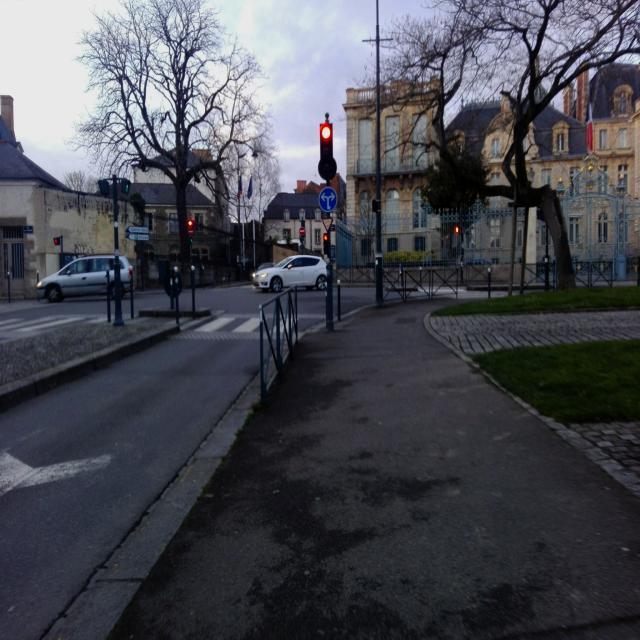car: (35, 252, 134, 304), (252, 254, 331, 294)
